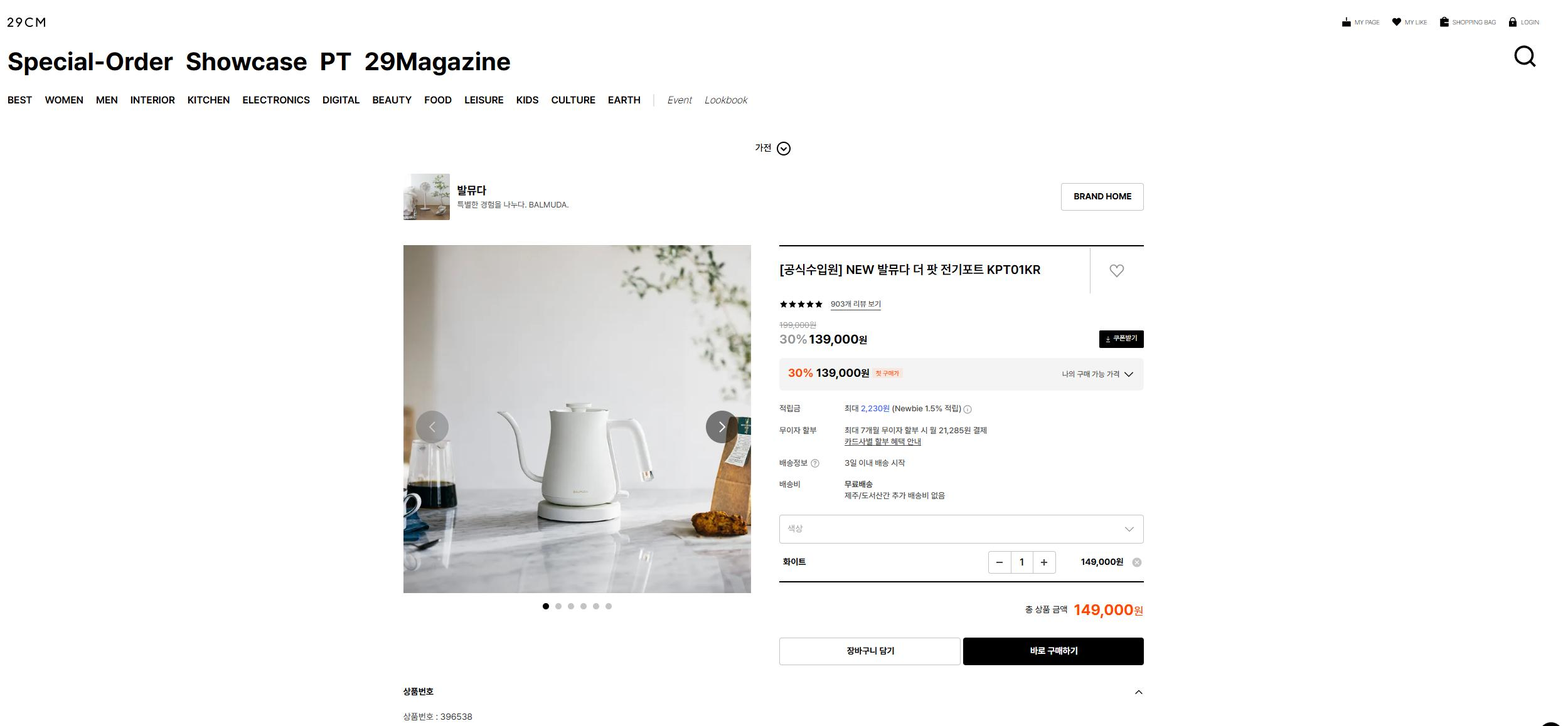button: (963, 637, 1147, 666), (782, 637, 959, 667), (1065, 187, 1147, 213), (988, 550, 1060, 569), (244, 89, 313, 108), (1440, 11, 1500, 29), (707, 94, 764, 109), (1517, 43, 1541, 78), (555, 94, 600, 110), (1098, 331, 1142, 346), (1340, 14, 1382, 29), (125, 92, 177, 104), (1394, 10, 1425, 30), (608, 97, 658, 109), (0, 91, 35, 108), (185, 95, 233, 107), (465, 96, 506, 109), (323, 90, 359, 104), (378, 91, 407, 106), (1509, 14, 1538, 29), (1103, 260, 1127, 278), (48, 93, 82, 104), (416, 96, 451, 106), (518, 95, 547, 107), (664, 94, 689, 104), (96, 93, 118, 104)
checkbox: (778, 518, 1145, 538), (1058, 367, 1138, 381), (753, 142, 809, 160)
